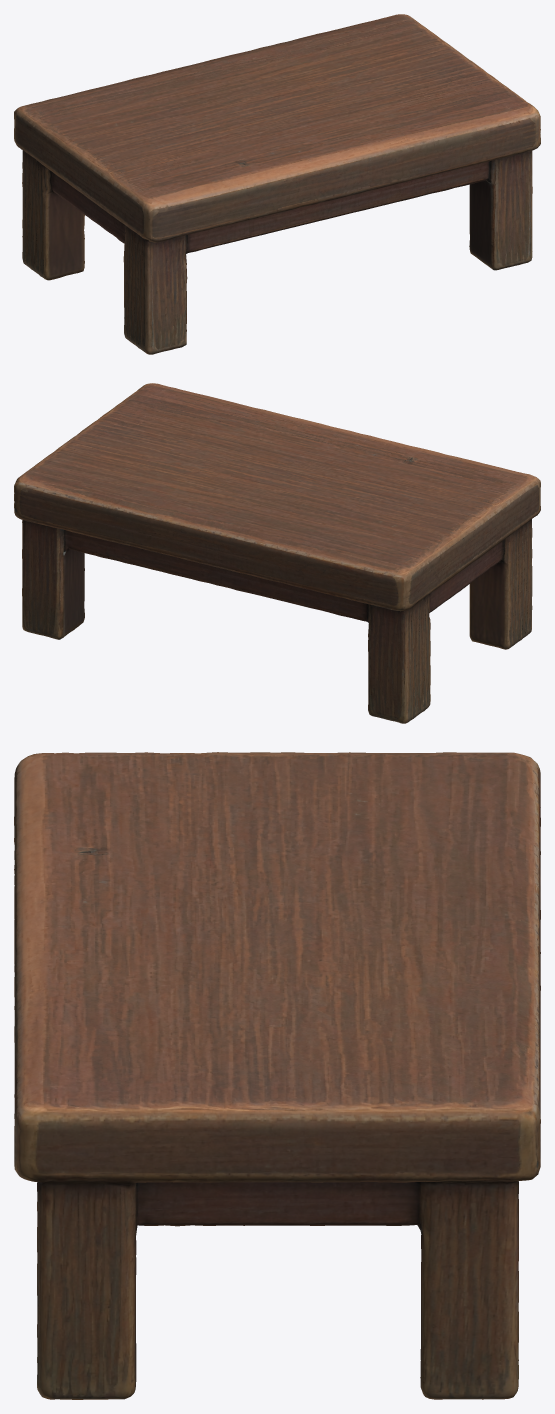
File: Furn_IngredientTable.fbx
3 views of the same model, one above another, from view 1: azimuth 30°, elevation 25°; view 2: azimuth 150°, elevation 25°; view 3: azimuth 270°, elevation 25° (orthographic). The views are drawn at different scales.
Visible parts, largest first — view 1: texture_mapping; view 2: texture_mapping; view 3: texture_mapping.
Part boxes in pixels (x1=…): texture_mapping: x1=14, y1=14, x2=540, y2=354; texture_mapping: x1=14, y1=383, x2=540, y2=723; texture_mapping: x1=14, y1=752, x2=540, y2=1399.
Bounding box in the file's own units: 0.9899 × 0.6047 × 0.3766.
1 material, 1 textured.
